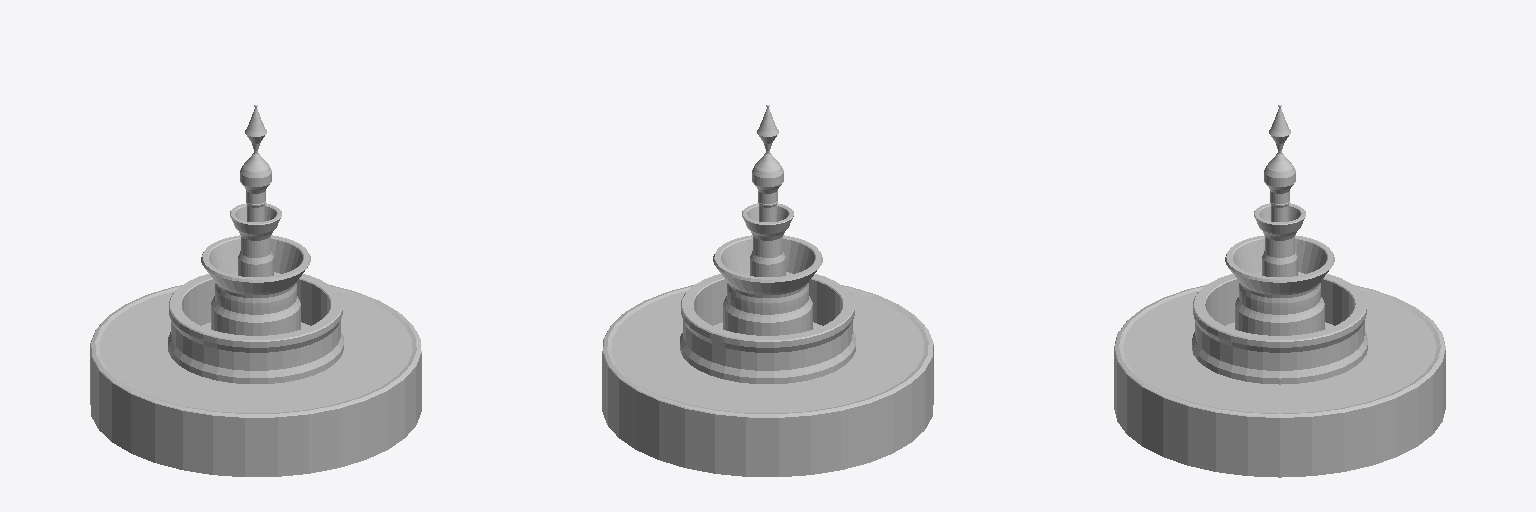
Rendered from GardenFountain.obj.
The picture shows the model from 3 angles: view 1: azimuth 30°, elevation 25°; view 2: azimuth 150°, elevation 25°; view 3: azimuth 270°, elevation 25°; orthographic projection.
Visible parts, largest first — view 1: GardenFountainBase_GardenFountainBase, GardenFountainBase2_GardenFountainBase2, GardenFountainInner1_GardenFountainInner1, GardenFountainInner2_GardenFountainInner2, GardenFountainInner3_GardenFountainInner3, GardenFountainTop_GardenFountainTop; view 2: GardenFountainBase_GardenFountainBase, GardenFountainBase2_GardenFountainBase2, GardenFountainInner1_GardenFountainInner1, GardenFountainInner2_GardenFountainInner2, GardenFountainInner3_GardenFountainInner3, GardenFountainTop_GardenFountainTop; view 3: GardenFountainBase_GardenFountainBase, GardenFountainBase2_GardenFountainBase2, GardenFountainInner1_GardenFountainInner1, GardenFountainInner2_GardenFountainInner2, GardenFountainInner3_GardenFountainInner3, GardenFountainTop_GardenFountainTop.
Part boxes in pixels (x1,y1,x2,y2): GardenFountainBase_GardenFountainBase: (90,285,421,417); GardenFountainBase2_GardenFountainBase2: (90,345,421,476); GardenFountainInner1_GardenFountainInner1: (168,274,343,383); GardenFountainInner2_GardenFountainInner2: (201,235,310,335); GardenFountainInner3_GardenFountainInner3: (230,203,281,276); GardenFountainTop_GardenFountainTop: (240,105,271,221); GardenFountainBase_GardenFountainBase: (602,285,933,417); GardenFountainBase2_GardenFountainBase2: (602,345,933,476); GardenFountainInner1_GardenFountainInner1: (680,274,855,383); GardenFountainInner2_GardenFountainInner2: (713,235,822,335); GardenFountainInner3_GardenFountainInner3: (742,203,793,276); GardenFountainTop_GardenFountainTop: (752,105,783,221); GardenFountainBase_GardenFountainBase: (1114,285,1445,417); GardenFountainBase2_GardenFountainBase2: (1114,350,1445,477); GardenFountainInner1_GardenFountainInner1: (1192,274,1367,384); GardenFountainInner2_GardenFountainInner2: (1225,235,1334,335); GardenFountainInner3_GardenFountainInner3: (1254,203,1305,276); GardenFountainTop_GardenFountainTop: (1264,105,1295,221).
Size of the model in its own units: 250 by 252 by 250.